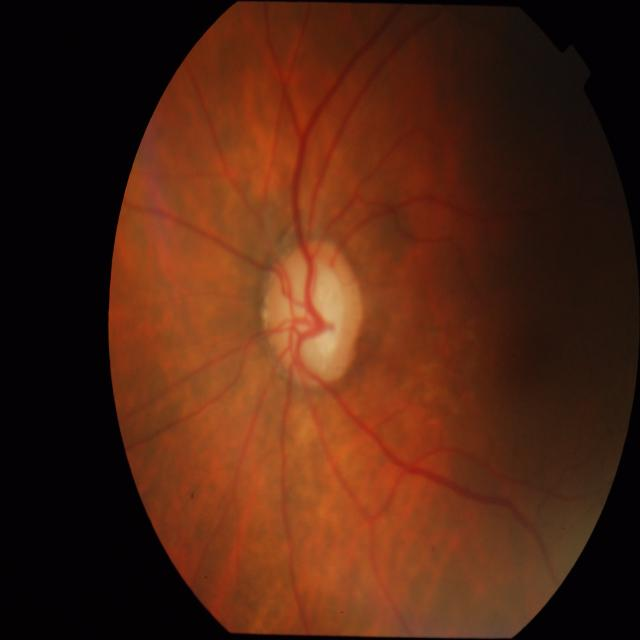OC: (274, 247, 348, 376)
OD: (265, 238, 364, 386)
